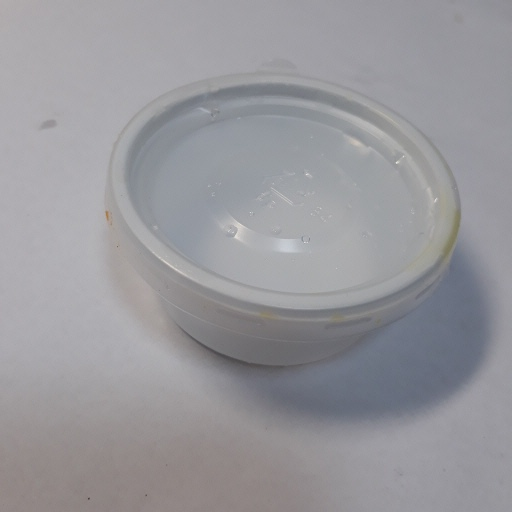Plastic_5: (107, 57, 462, 373)
